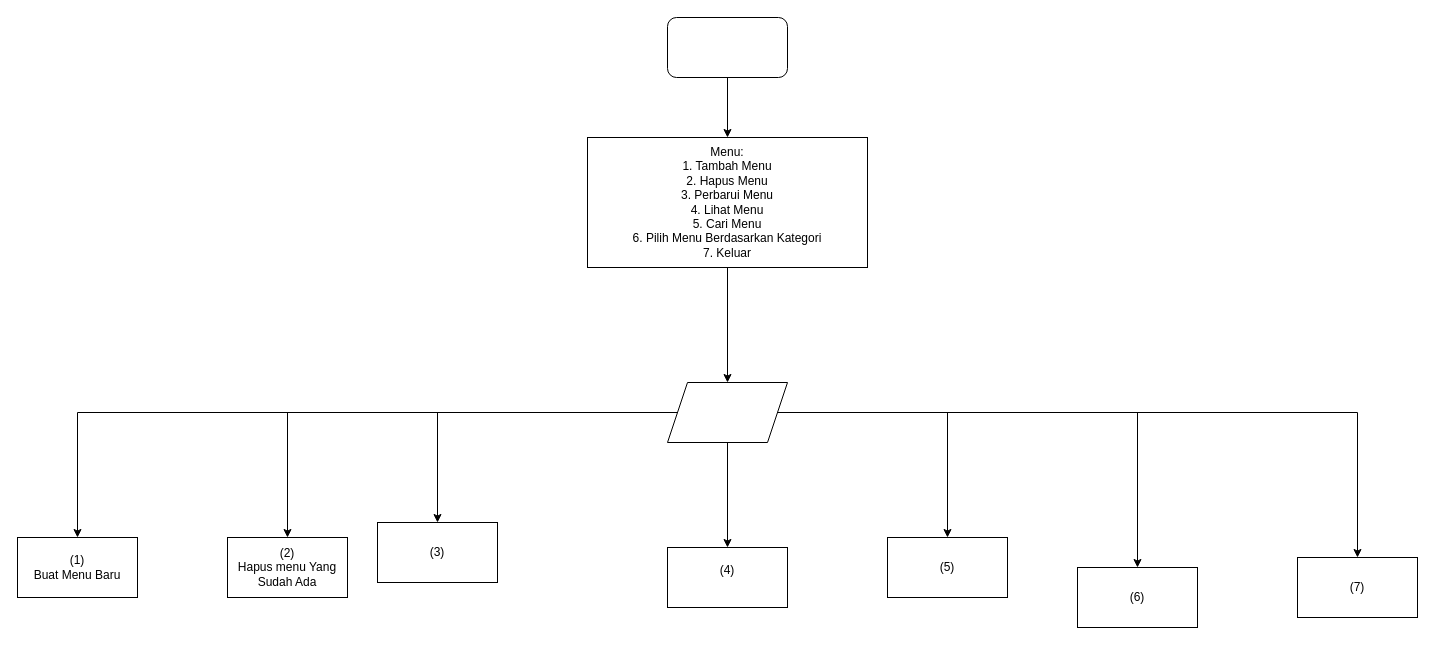
Image size: 1435x645. Some labels were removed from this diagram. The shapes that lost their labels are listed below. From the top down, each one's centre as x and y in pixels, then its label:
At point (727, 47): "mulai".
At point (727, 412): "Pilih Opsi Mneu:".
